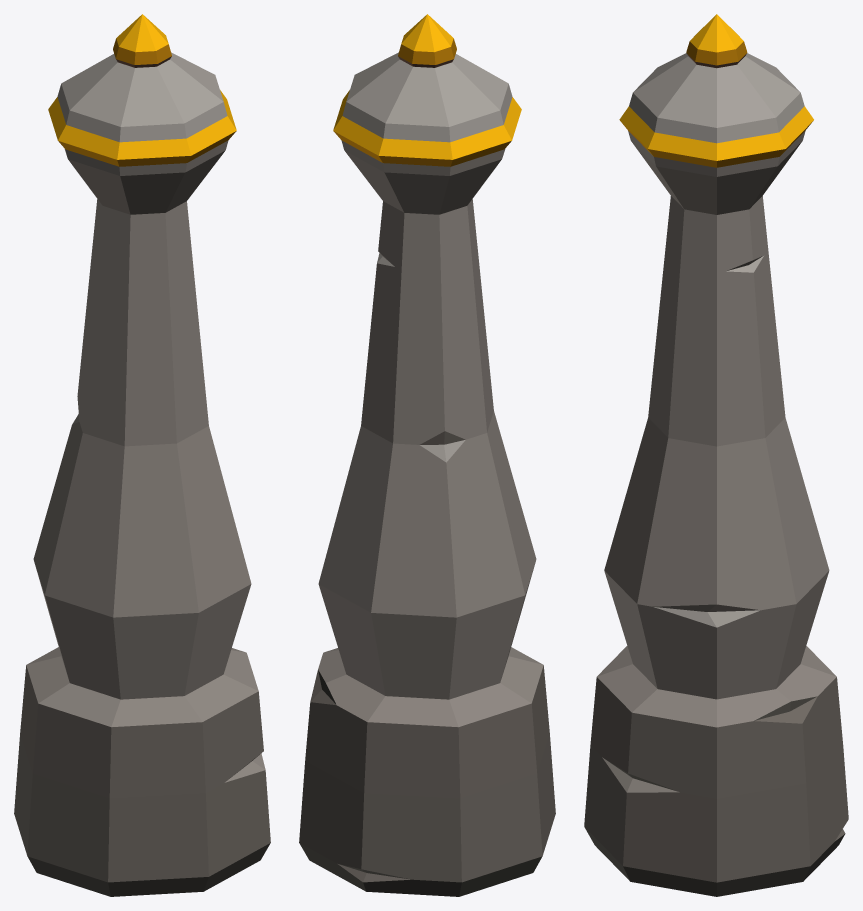
File: Fence_Stone_End.glb
3 renders of one model, left to right at view 1: azimuth 30°, elevation 25°; view 2: azimuth 150°, elevation 25°; view 3: azimuth 270°, elevation 25°, orthographic.
Visible parts, largest first — view 1: Fence_Stone_End; view 2: Fence_Stone_End; view 3: Fence_Stone_End.
Part boxes in pixels (<box>): Fence_Stone_End: <box>14,14,270,896</box>; Fence_Stone_End: <box>299,14,555,896</box>; Fence_Stone_End: <box>584,14,848,896</box>.
Size of what is drawn, in the model's own units: 0.3299 by 1.14 by 0.3291.
1 material, 1 textured.
